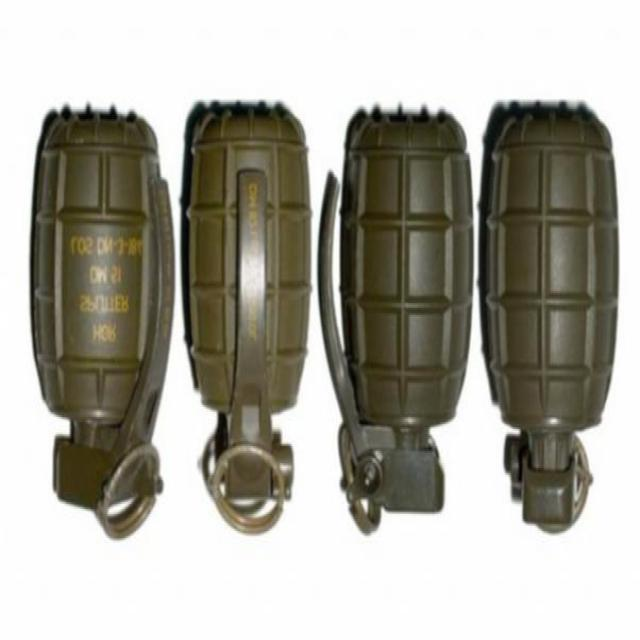grenade: (319, 100, 478, 530), (31, 102, 176, 543), (482, 98, 622, 534), (185, 95, 318, 536)
